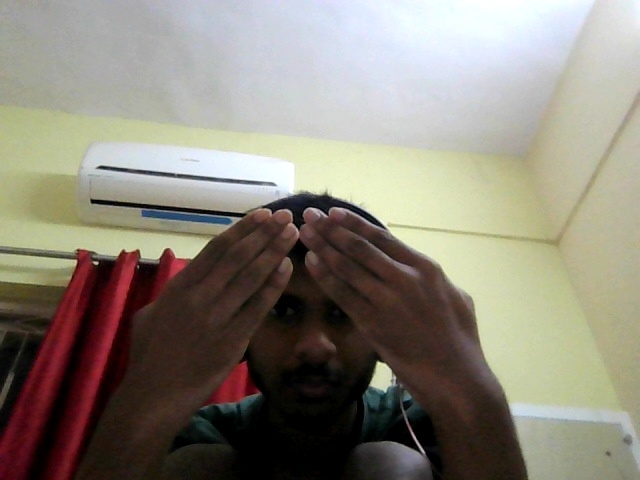ThankYou: (126, 206, 483, 390)
